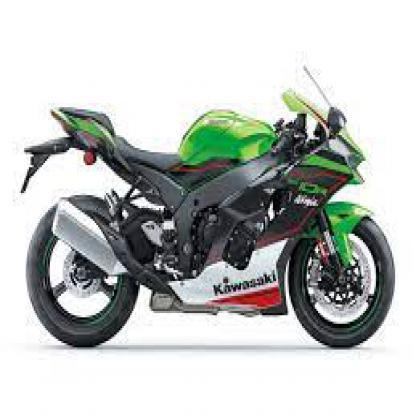Motorcycle: (16, 56, 399, 355)
